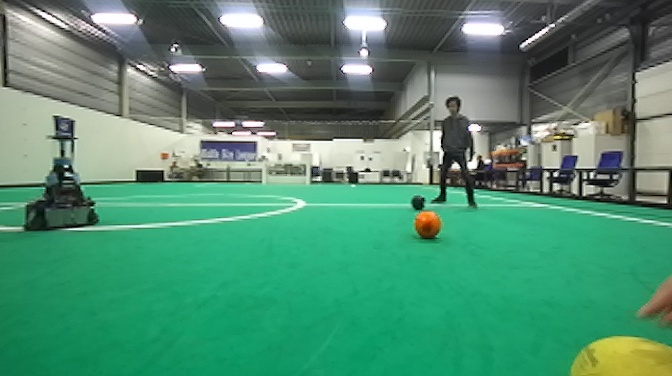ball: (563, 331, 672, 376), (410, 208, 445, 243), (408, 193, 429, 211)
goal: (259, 159, 311, 188)
goalpost: (261, 160, 269, 187), (306, 160, 312, 186)
human: (428, 93, 484, 212)
human_part: (626, 267, 672, 332)
robot: (20, 109, 103, 234)
